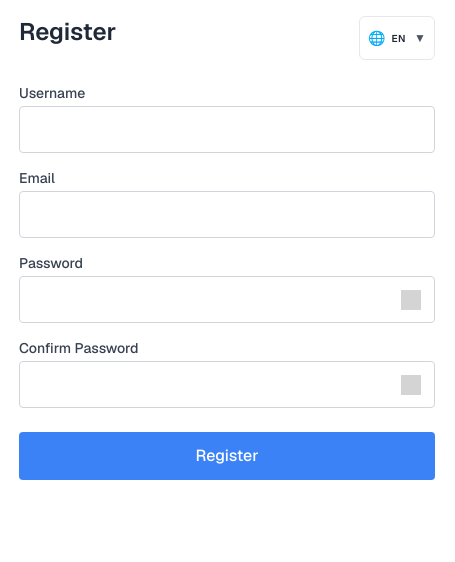
Test: RegisterForm › shows validation error for password mismatch
Type "testuser" into the field labelled "Username" at [227, 130], box [19,106,435,153]
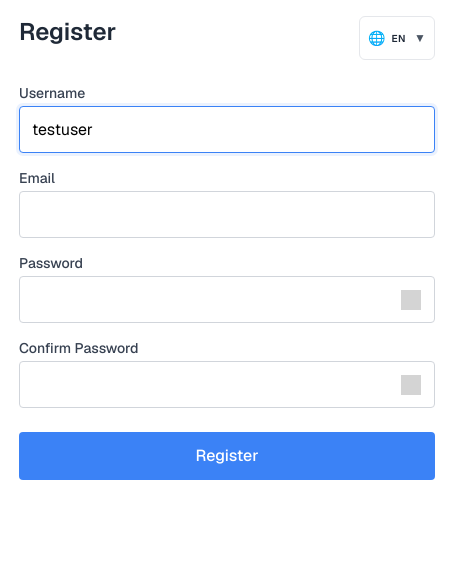
Type "test@example.com" into the field labelled "Email" at [227, 214], box [19,191,435,238]
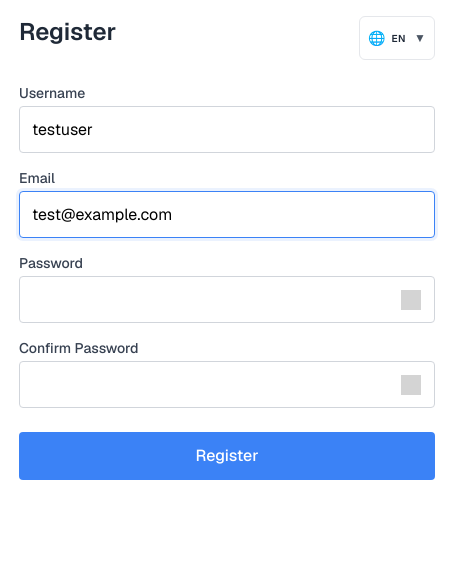
Type "StrongPass123!" into the password field labelled "Password" at [227, 300], box [19,276,435,323]
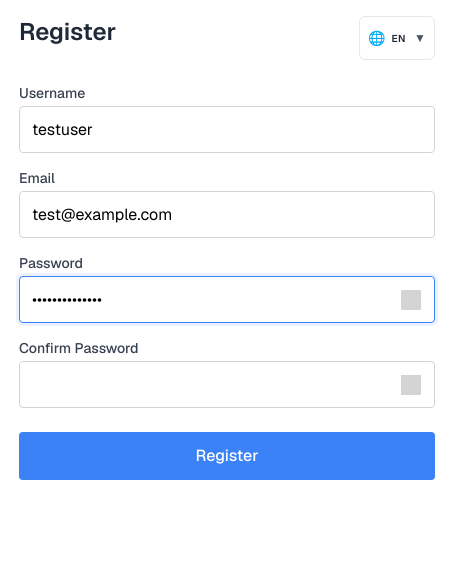
Type "Different123!" into the password field labelled "Confirm Password" at [227, 384], box [19,361,435,408]
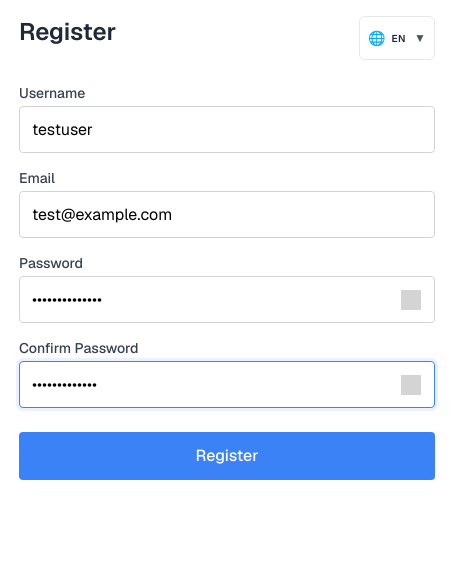
Click the button "Register" at [227, 456], box [19,432,435,480]
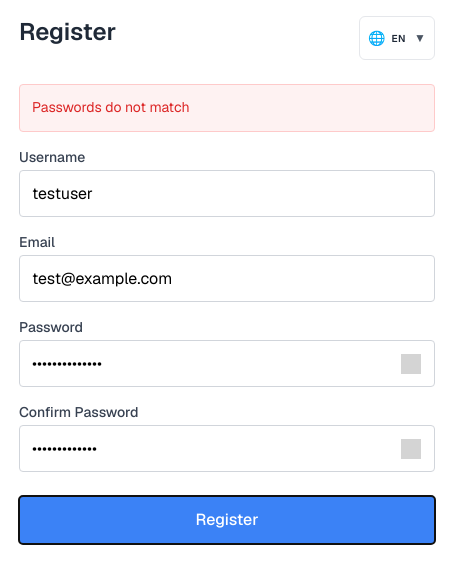
expect the text "Passwords do not match" is shown: met, box [19,84,435,132]
